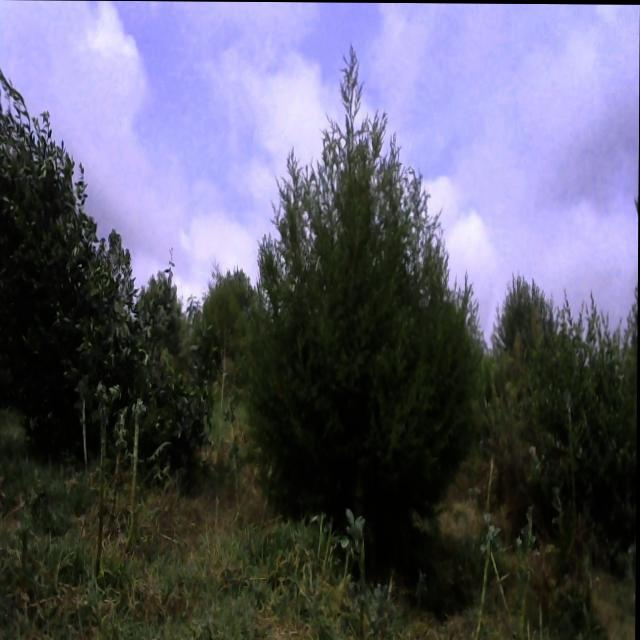Salix alba: (519, 289, 638, 556)
cedrus: (243, 95, 472, 545)
